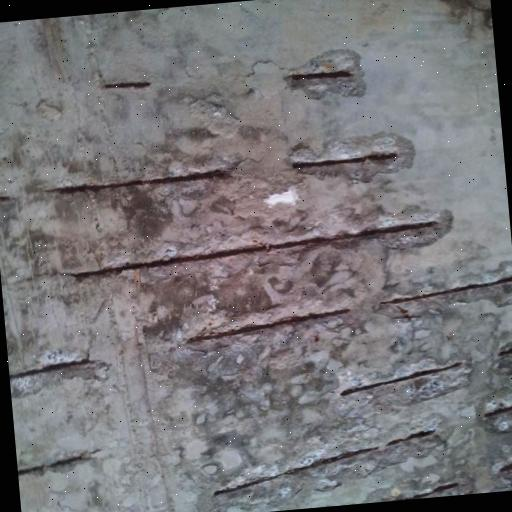spalling: (45, 213, 455, 313), (202, 417, 472, 504), (337, 336, 512, 412), (185, 297, 354, 372), (43, 157, 231, 206), (368, 260, 512, 321), (285, 129, 416, 184), (280, 48, 362, 103), (10, 351, 107, 397), (20, 444, 100, 484), (480, 391, 512, 426), (491, 456, 512, 480)
